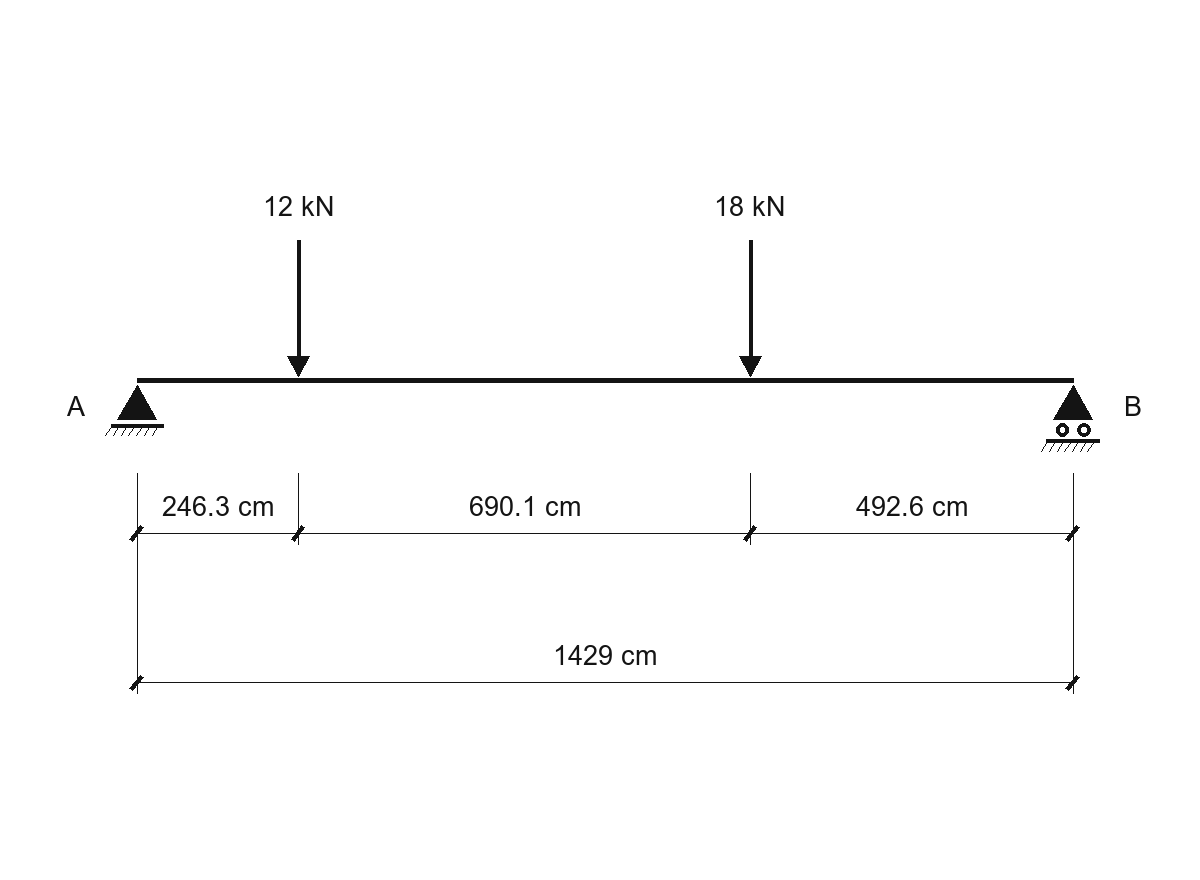pin_support: (105, 385, 164, 436)
point_load: (287, 240, 310, 377), (739, 240, 762, 377)
roller_support: (1041, 385, 1100, 452)
